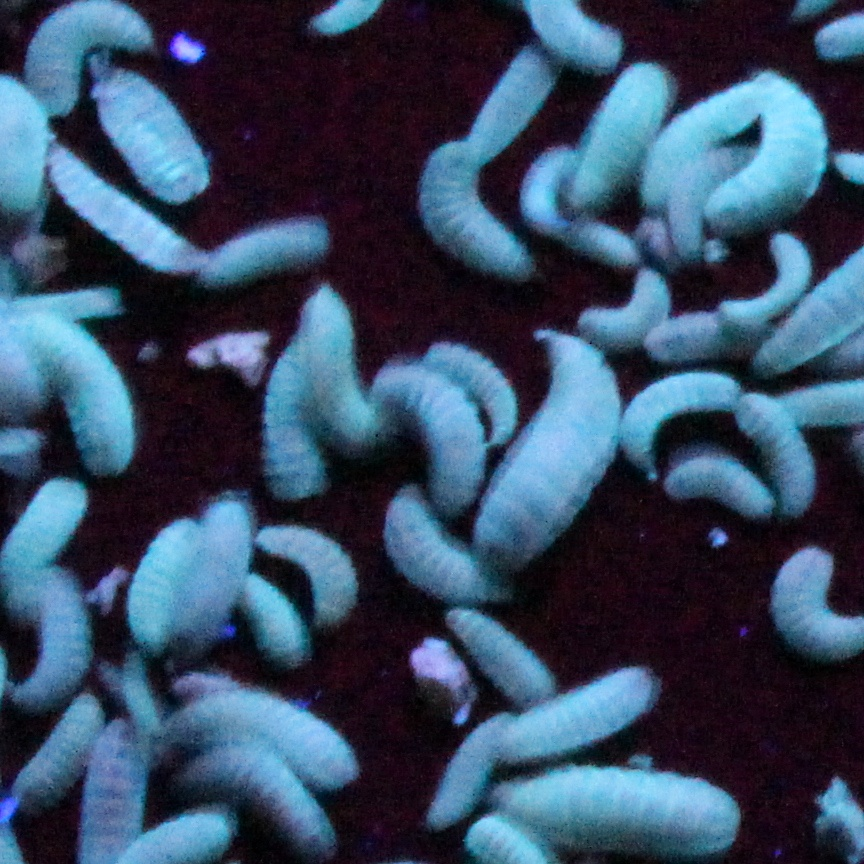larve: (484, 328, 621, 579), (494, 765, 738, 862), (11, 296, 135, 477), (38, 148, 209, 274), (701, 74, 826, 240), (177, 689, 357, 799), (182, 738, 340, 860), (645, 79, 760, 214), (570, 55, 672, 206), (94, 65, 211, 196), (382, 357, 487, 501), (416, 140, 523, 279), (28, 1, 153, 118), (506, 665, 657, 760), (377, 489, 501, 599), (618, 370, 745, 477), (467, 40, 560, 167), (14, 570, 96, 711), (6, 706, 106, 821), (265, 350, 336, 506), (306, 289, 379, 435), (179, 501, 255, 640), (253, 526, 357, 626), (445, 609, 553, 704), (426, 716, 514, 831), (426, 343, 518, 450), (206, 216, 338, 289), (716, 231, 809, 326), (131, 526, 199, 655), (743, 399, 816, 506), (233, 574, 309, 672), (667, 462, 779, 523), (582, 274, 670, 350), (550, 204, 643, 274)
